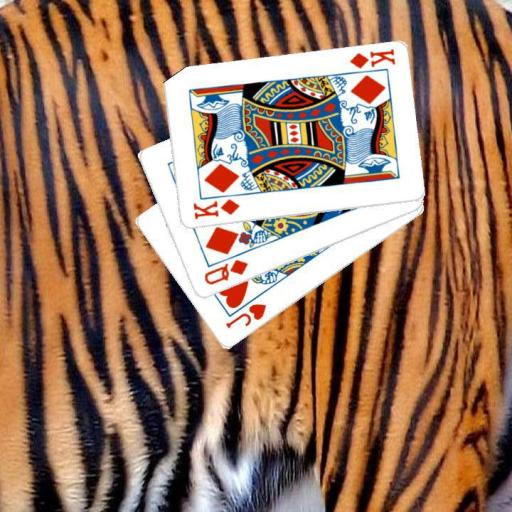JH: (222, 301, 267, 331)
KD: (189, 196, 241, 221), (346, 47, 396, 71)
QD: (201, 257, 250, 287)
